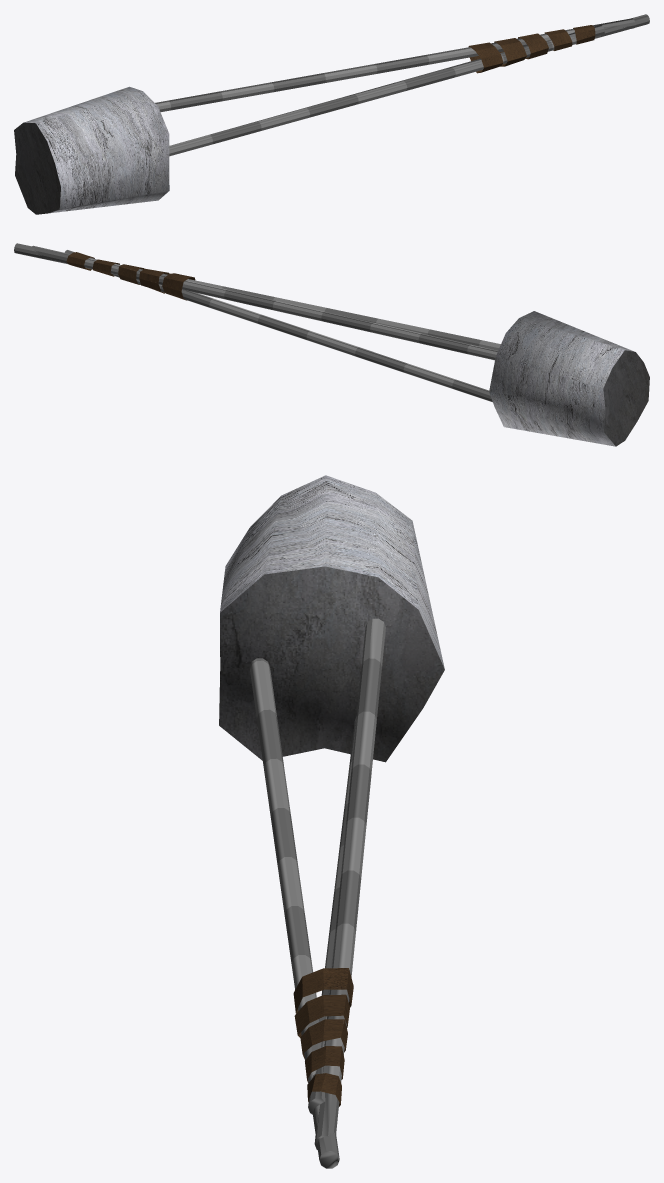
The model's file is RebarClub.fbx.
3 views of the same model, one above another, from view 1: azimuth 30°, elevation 25°; view 2: azimuth 150°, elevation 25°; view 3: azimuth 270°, elevation 25° (orthographic). The views are drawn at different scales.
Parts seen in each view (by area): view 1: ZomboidRebarClub; view 2: ZomboidRebarClub; view 3: ZomboidRebarClub.
Part boxes in pixels (bbox=[...]): ZomboidRebarClub: bbox=[14, 14, 649, 214]; ZomboidRebarClub: bbox=[14, 243, 649, 446]; ZomboidRebarClub: bbox=[219, 475, 444, 1168].
Size of the model in its own units: 0.9943 by 0.1531 by 0.16.
